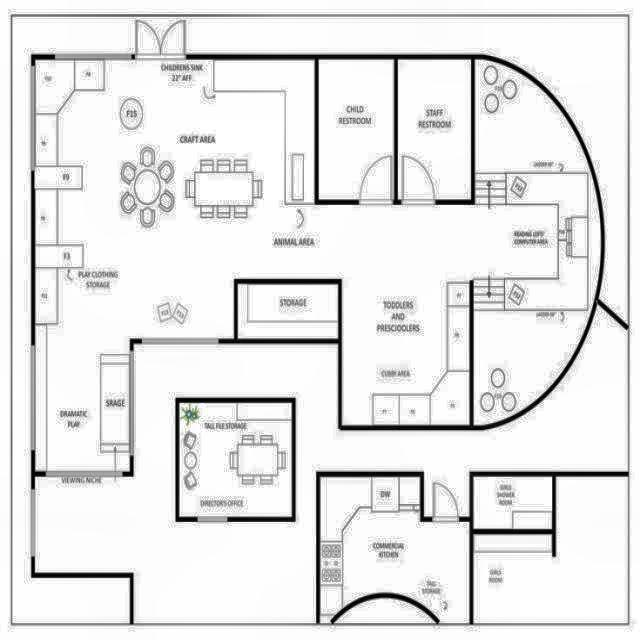room: (36, 59, 601, 471), (34, 304, 630, 627), (474, 475, 628, 624), (320, 477, 469, 624), (180, 404, 292, 516), (319, 59, 394, 199), (398, 59, 472, 200), (239, 283, 338, 337), (474, 476, 551, 528)
